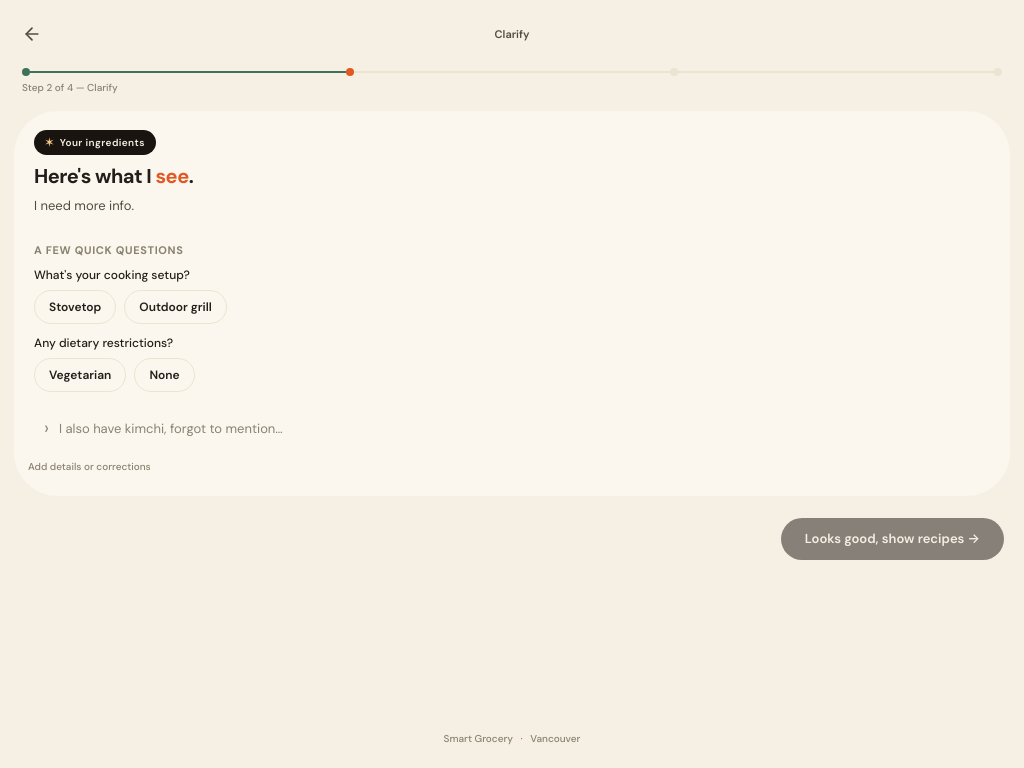
Test: ClarifyScreen — Looks good gates on answering all questions › enables once every question has at least one selection
Step 1. Click the button with test id "chip-cooking_setup-Outdoor grill" → (176, 307), box [124,290,227,324]
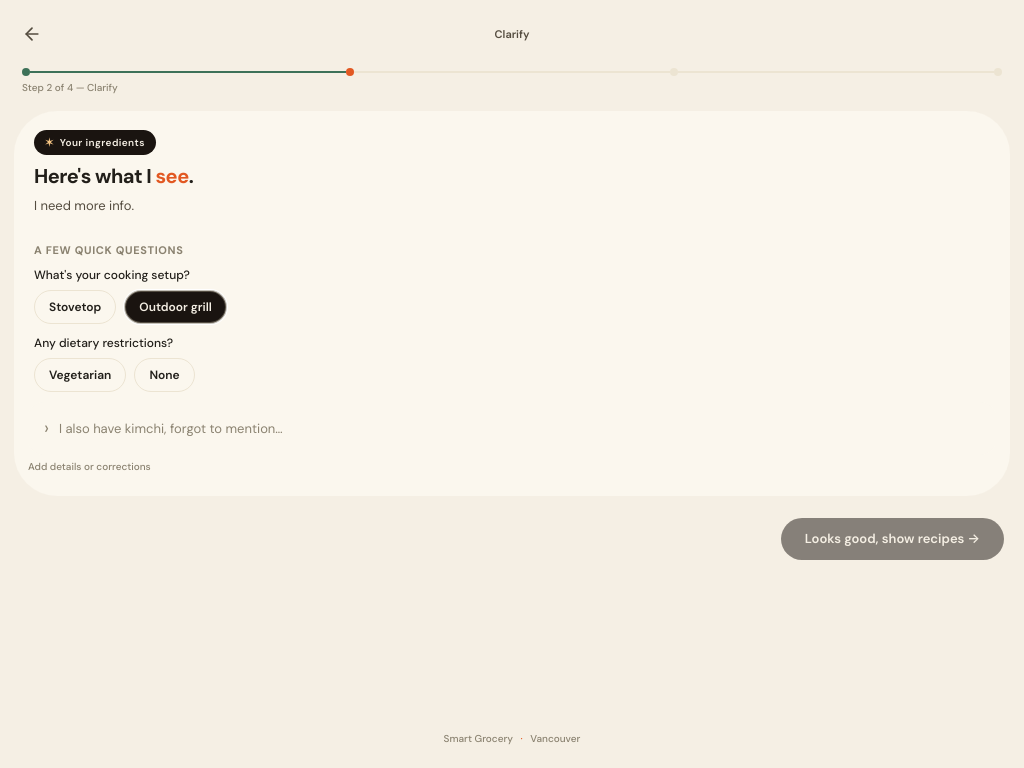
Step 2. Click the button with test id "chip-dietary-Vegetarian" → (80, 375), box [34,358,126,392]
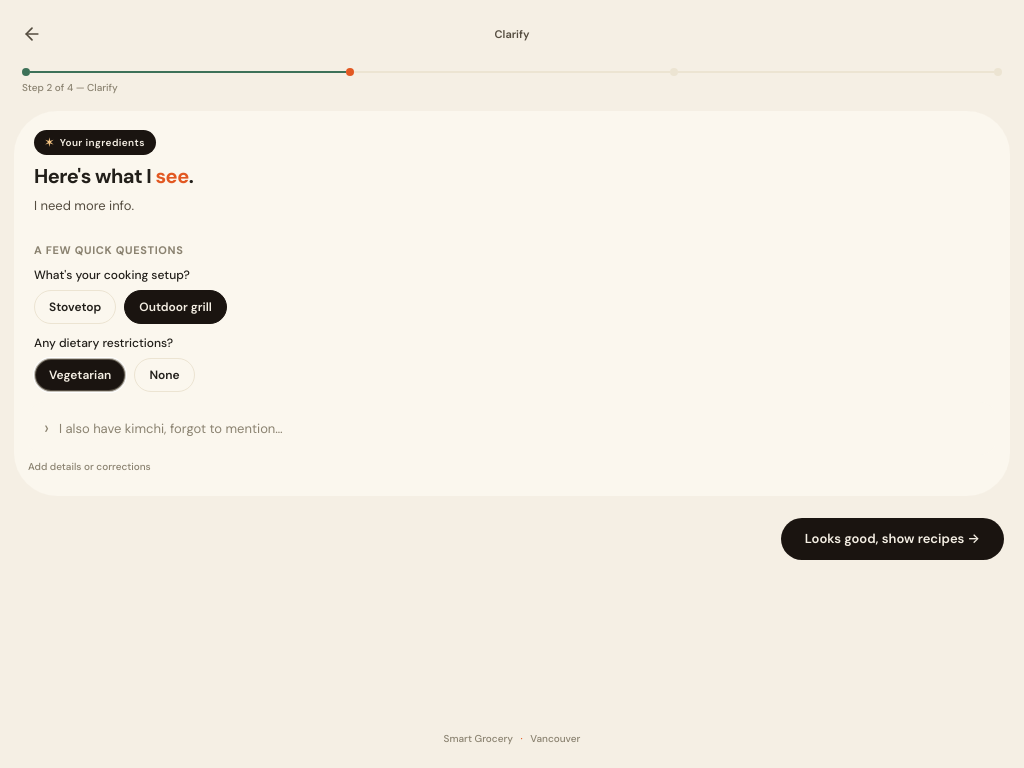
Check: the button "Looks good, show recipes →" is enabled, box [781,518,1004,560]
